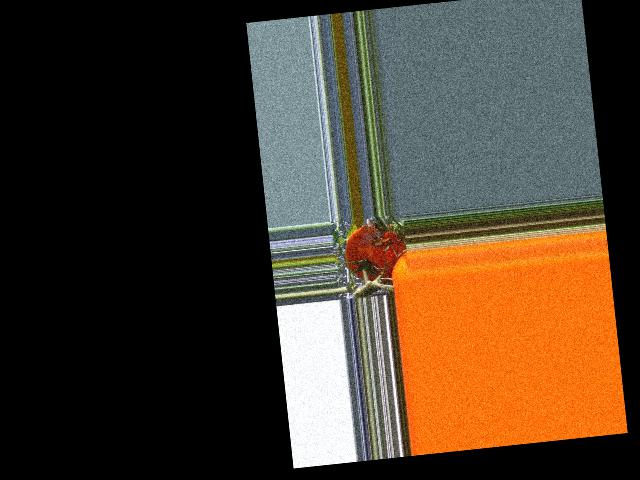tomato: (342, 220, 408, 283)
